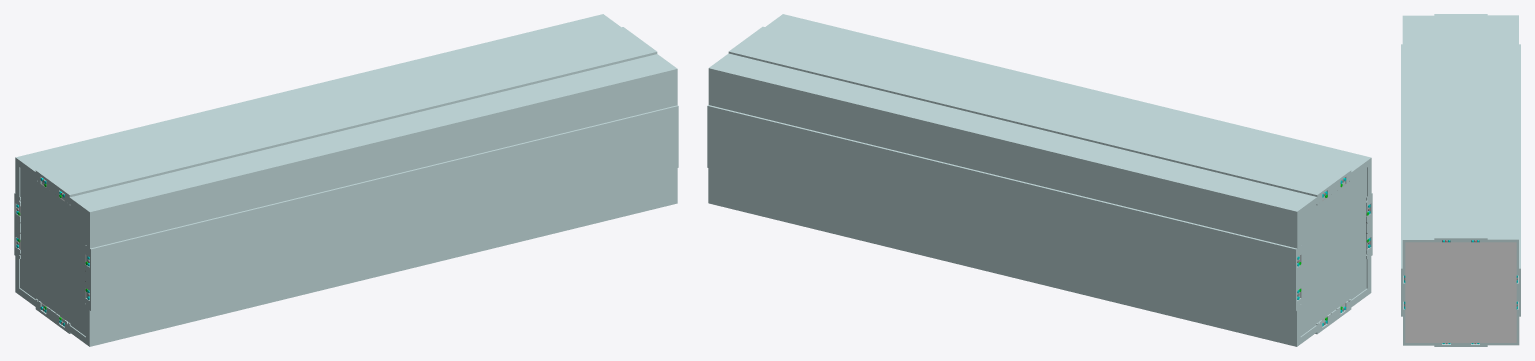
File: map2(2).fbx
3 renders of one model, left to right at view 1: azimuth 30°, elevation 25°; view 2: azimuth 150°, elevation 25°; view 3: azimuth 270°, elevation 25°, orthographic. The views are drawn at different scales.
Visible parts, largest first — view 1: 立方体.002, 立方体.007, 立方体.011, 立方体.015, 立方体.003, 立方体.010, 立方体.006, タイル.008, タイル.021, タイル.005, タイル.019, タイル.006 (+10 smaller); view 2: 立方体.004, 立方体.009, 立方体.005, 立方体.015, 立方体.001, 立方体.012, 立方体.008, タイル.010, タイル.020, タイル.007, タイル.018, タイル.009 (+10 smaller); view 3: 平面.012, 立方体.011, 立方体.009, 立方体.002, 立方体.007, 立方体.005, 立方体.004, タイル.022, タイル.002, タイル.003, タイル.013, タイル.012 (+6 smaller).
Boxes of the visible parts, x1,y1,x2,y2 form: 立方体.002: (69, 149, 286, 248); 立方体.007: (265, 102, 482, 200); 立方体.011: (461, 54, 677, 152); 立方体.015: (18, 168, 87, 336); 立方体.003: (69, 264, 286, 346); 立方体.010: (480, 168, 677, 251); 立方体.006: (285, 216, 480, 298); タイル.008: (85, 224, 189, 310); タイル.021: (579, 105, 678, 191); タイル.005: (188, 200, 287, 286); タイル.019: (482, 129, 580, 215); タイル.006: (286, 177, 384, 262); 立方体.004: (1100, 149, 1317, 249); 立方体.009: (708, 53, 925, 152); 立方体.005: (904, 101, 1119, 200); 立方体.015: (1299, 168, 1368, 335); 立方体.001: (1100, 264, 1317, 346); 立方体.012: (708, 168, 905, 251); 立方体.008: (904, 216, 1100, 298); タイル.010: (1197, 224, 1301, 311); タイル.020: (707, 105, 806, 191); タイル.007: (1099, 201, 1198, 286); タイル.018: (805, 129, 904, 215); タイル.009: (903, 153, 1002, 239); 平面.012: (1405, 242, 1516, 342); 立方体.011: (1402, 165, 1434, 268); 立方体.009: (1487, 164, 1518, 268); 立方体.002: (1402, 15, 1434, 90); 立方体.007: (1402, 90, 1434, 165); 立方体.005: (1487, 90, 1518, 165); 立方体.004: (1487, 15, 1518, 90); タイル.022: (1434, 200, 1487, 242); タイル.002: (1434, 88, 1487, 126); タイル.003: (1434, 51, 1487, 88); タイル.013: (1434, 14, 1487, 51); タイル.012: (1434, 126, 1487, 163).
Bounding box in the file's own units: 23910 × 5400 × 5400.
